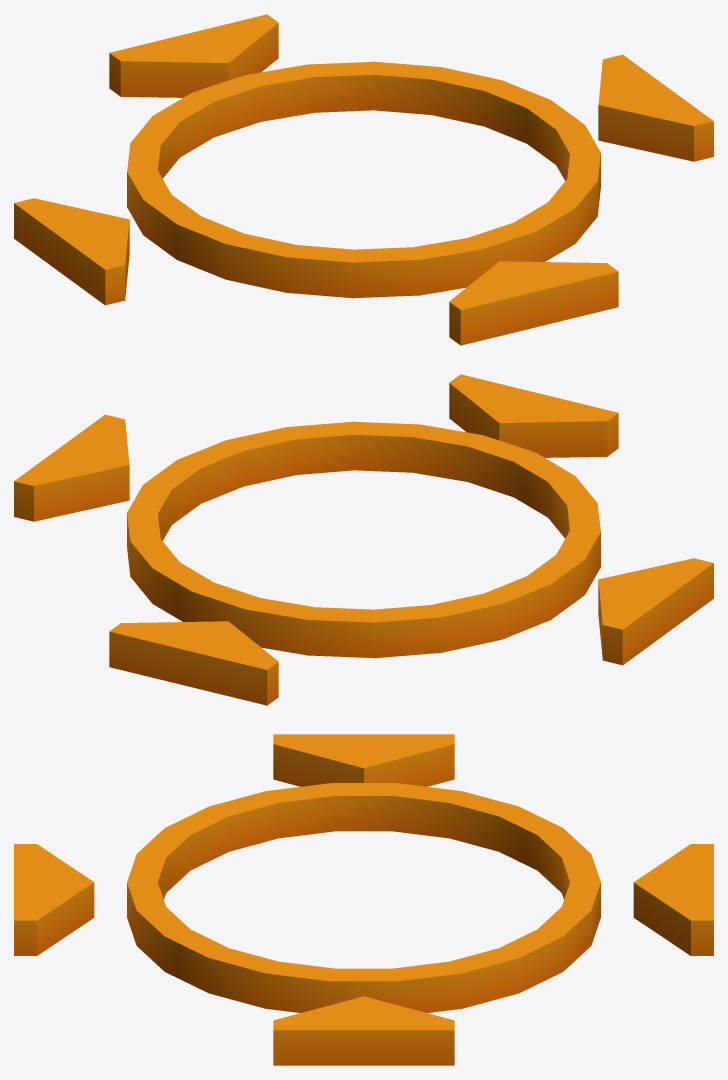
Rendered from Selection_Pointer_04.fbx.
3 renders of one model, top to bottom at view 1: azimuth 30°, elevation 25°; view 2: azimuth 150°, elevation 25°; view 3: azimuth 270°, elevation 25°, orthographic.
Visible parts, largest first — view 1: Selection_Pointer_04; view 2: Selection_Pointer_04; view 3: Selection_Pointer_04.
Boxes of the visible parts, x1,y1,x2,y2 form: Selection_Pointer_04: (14,14,713,345); Selection_Pointer_04: (14,374,713,705); Selection_Pointer_04: (14,734,713,1065).
Size of the model in its own units: 140 by 7.84 by 140.
